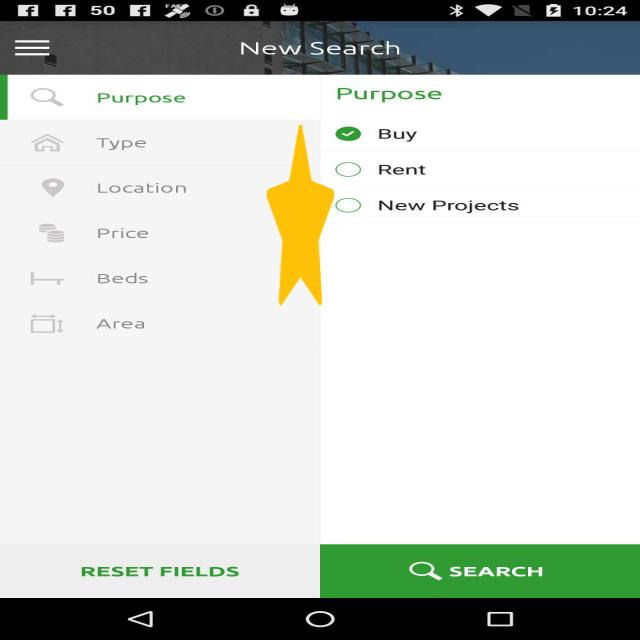forced continuity: (267, 124, 334, 306)
